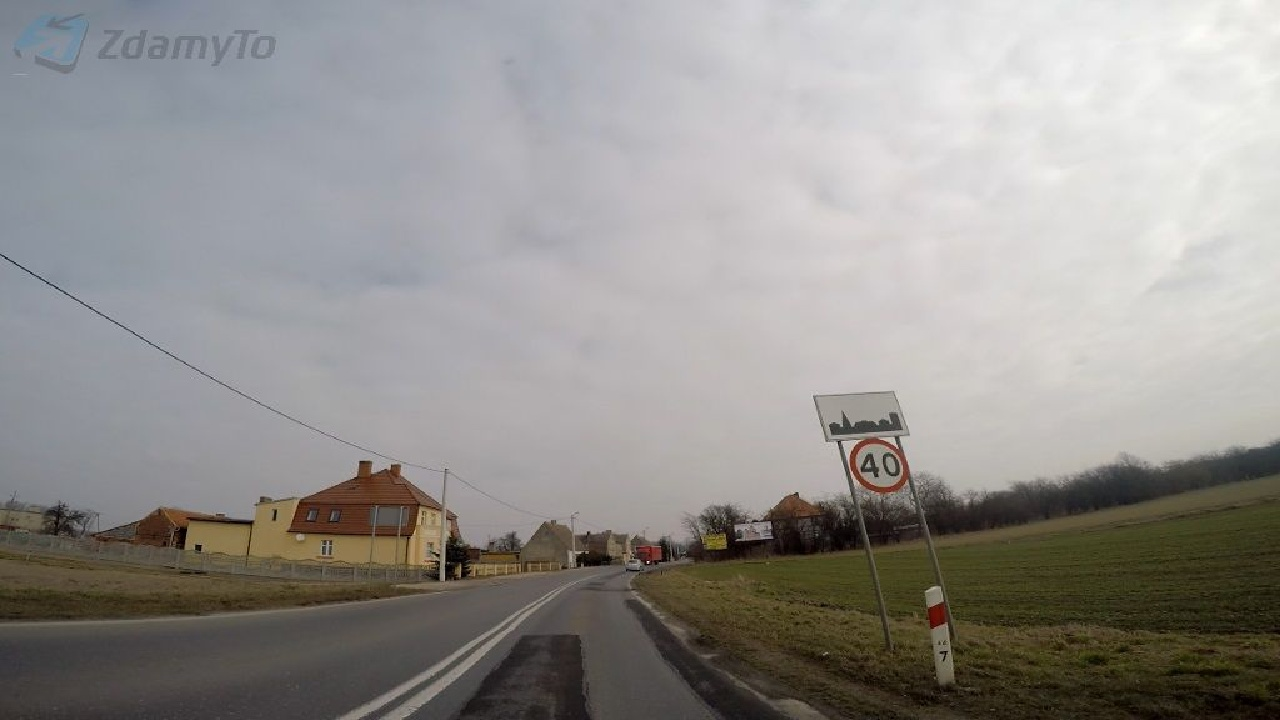B33_40: (850, 440, 909, 492)
D42: (813, 391, 912, 439)
